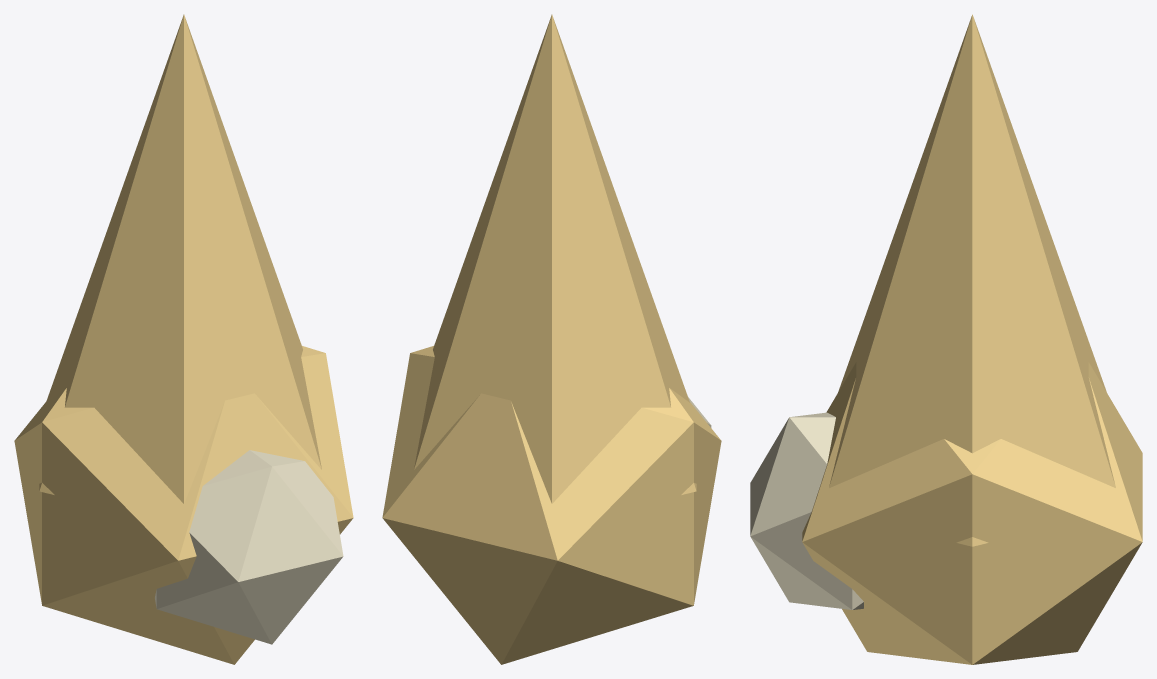
File: flame.glb
3 views of the same model, side by side, from view 1: azimuth 30°, elevation 25°; view 2: azimuth 150°, elevation 25°; view 3: azimuth 270°, elevation 25° (orthographic). The views are drawn at different scales.
Visible parts, largest first — view 1: Flame; view 2: Flame; view 3: Flame.
Boxes of the visible parts, left/top/right/bottom form: Flame: left=14, top=14, right=353, bottom=664; Flame: left=382, top=14, right=721, bottom=664; Flame: left=750, top=14, right=1142, bottom=664.
Size of the model in its own units: 0.13 by 0.2638 by 0.1471.
